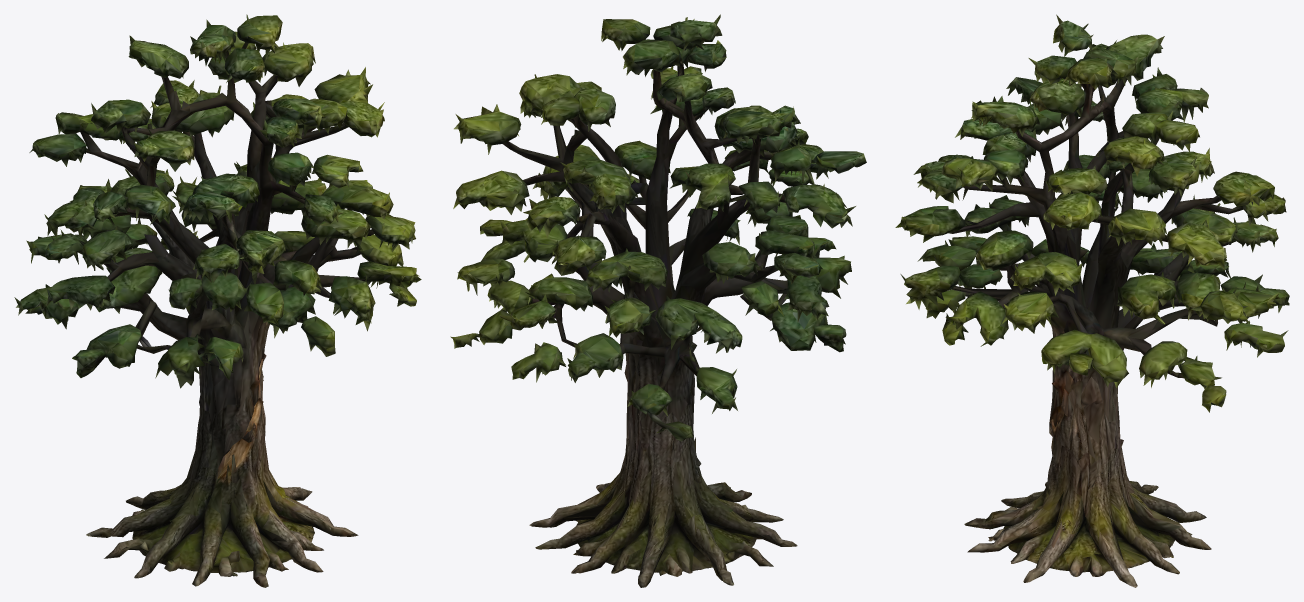
3 views of the same model, side by side, from view 1: azimuth 30°, elevation 25°; view 2: azimuth 150°, elevation 25°; view 3: azimuth 270°, elevation 25° (orthographic). The views are drawn at different scales.
Visible parts, largest first — view 1: tripo_node_79fefe99-0446-4d32-826c-f4995aee27fc; view 2: tripo_node_79fefe99-0446-4d32-826c-f4995aee27fc; view 3: tripo_node_79fefe99-0446-4d32-826c-f4995aee27fc.
Part boxes in pixels (x1,y1,x2,y2): tripo_node_79fefe99-0446-4d32-826c-f4995aee27fc: (14, 14, 421, 587); tripo_node_79fefe99-0446-4d32-826c-f4995aee27fc: (450, 14, 866, 587); tripo_node_79fefe99-0446-4d32-826c-f4995aee27fc: (895, 14, 1289, 587).
Bounding box in the file's own units: 0.7337 × 0.9796 × 0.696.
1 material, 1 textured.
